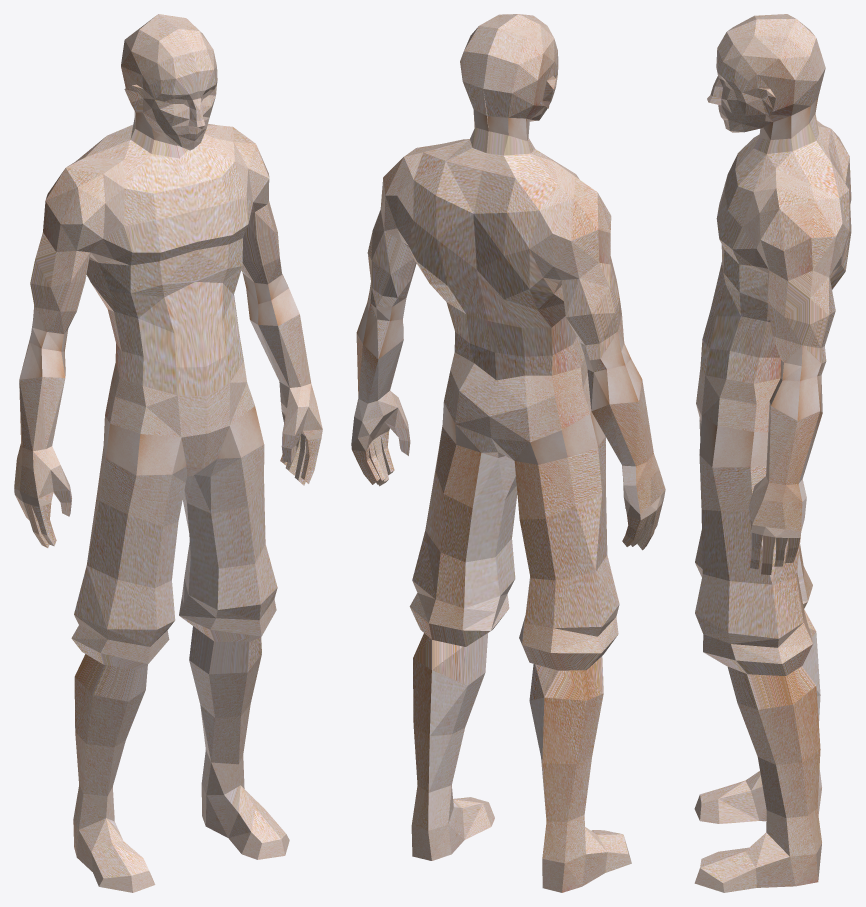
File: man.obj
3 views of the same model, side by side, from view 1: azimuth 30°, elevation 25°; view 2: azimuth 150°, elevation 25°; view 3: azimuth 270°, elevation 25° (orthographic).
Visible parts, largest first — view 1: polySurface13 polySurface14, polySurface11 polySurface12; view 2: polySurface13 polySurface14, polySurface11 polySurface12; view 3: polySurface13 polySurface14, polySurface11 polySurface12.
Boxes of the visible parts, <box> form: polySurface13 polySurface14: <box>14,14,322,669</box>; polySurface11 polySurface12: <box>73,626,289,892</box>; polySurface13 polySurface14: <box>351,14,665,670</box>; polySurface11 polySurface12: <box>411,633,631,892</box>; polySurface13 polySurface14: <box>695,14,851,675</box>; polySurface11 polySurface12: <box>694,609,821,892</box>.
Bounding box in the file's own units: 8.01 × 21.67 × 3.73.
